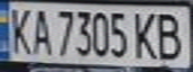0: (90, 8, 112, 59)
3: (72, 7, 93, 57)
5: (109, 9, 133, 60)
7: (51, 7, 75, 57)
A: (27, 6, 54, 56)
B: (151, 9, 190, 61)
K: (130, 9, 160, 61), (3, 4, 33, 55)
